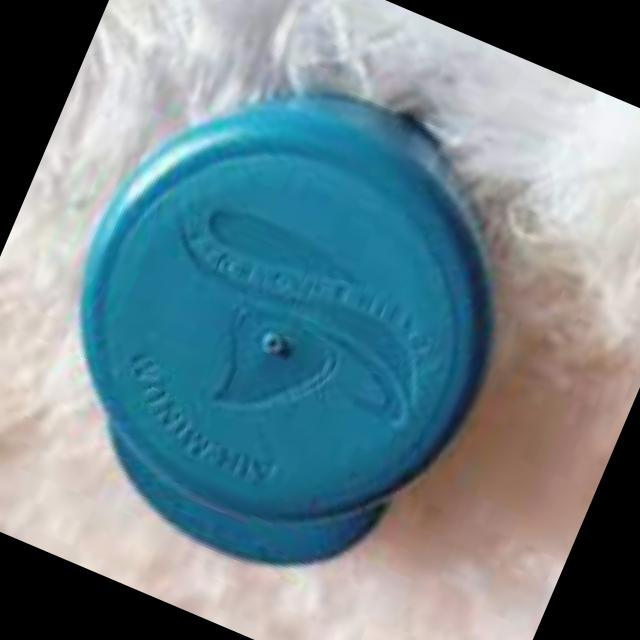TutupGalon: (0, 19, 572, 628)
